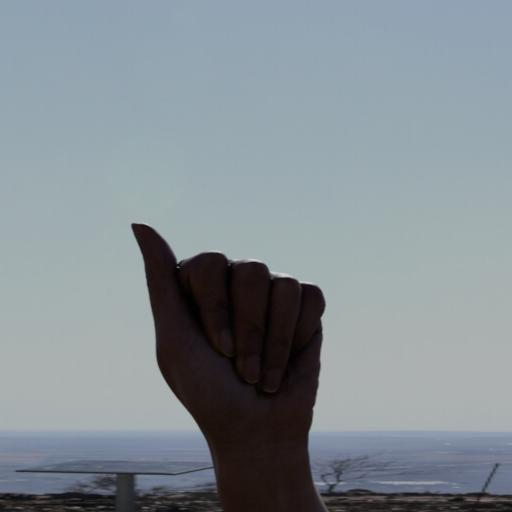A: (127, 215, 333, 447)
